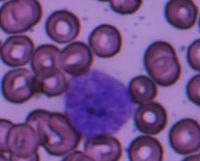B: (62, 69, 132, 138)
